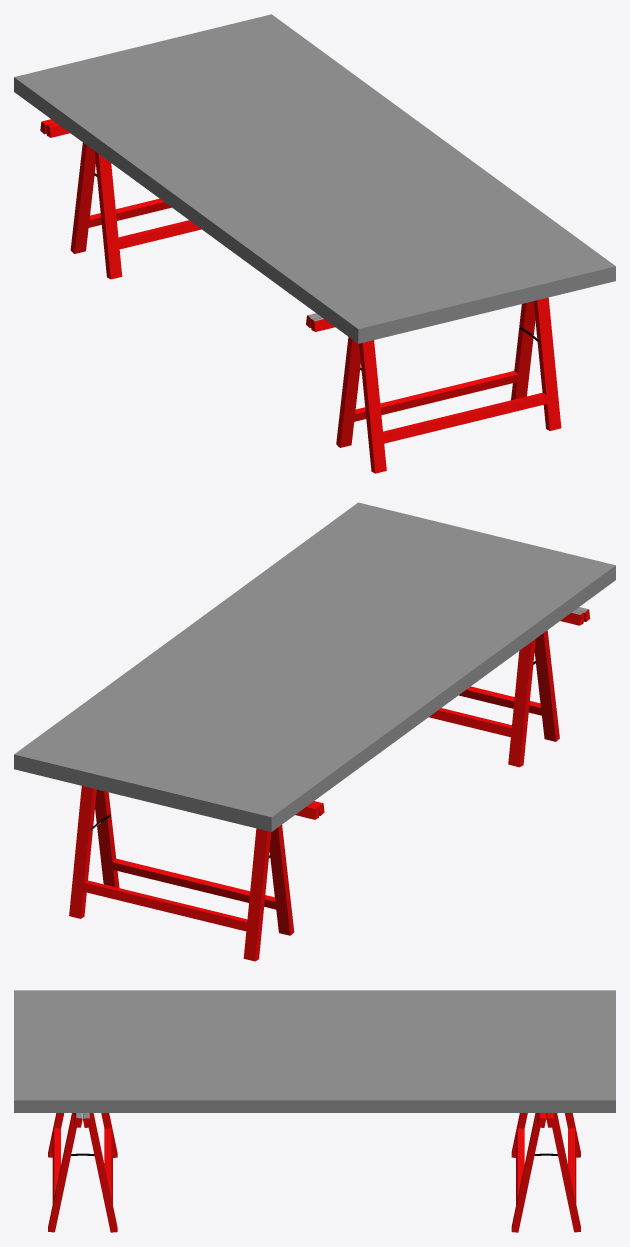
Rendered from table.FBX.
3 views of the same model, one above another, from view 1: azimuth 30°, elevation 25°; view 2: azimuth 150°, elevation 25°; view 3: azimuth 270°, elevation 25° (orthographic). The views are drawn at different scales.
Visible parts, largest first — view 1: Box006; view 2: Box006; view 3: Box006.
Part boxes in pixels (bbox=[...]): Box006: bbox=[14, 14, 615, 473]; Box006: bbox=[14, 502, 615, 961]; Box006: bbox=[14, 990, 615, 1232].
Size of the model in its own units: 1.39 by 0.8095 by 3.
